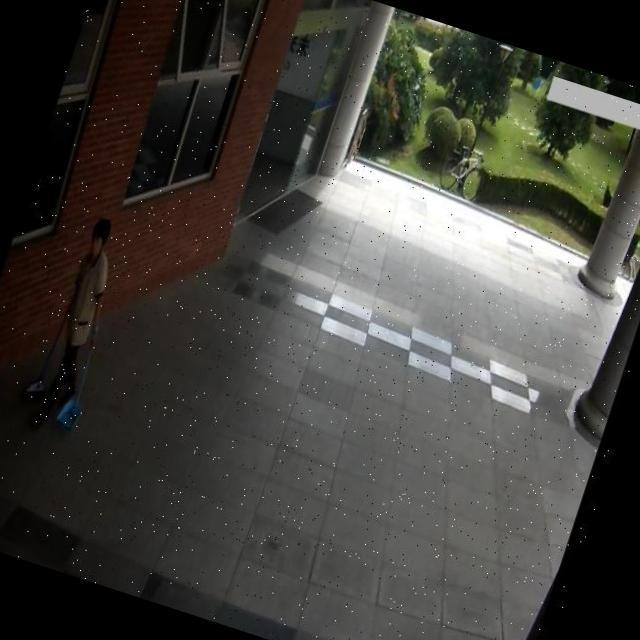person: (20, 212, 130, 447)
